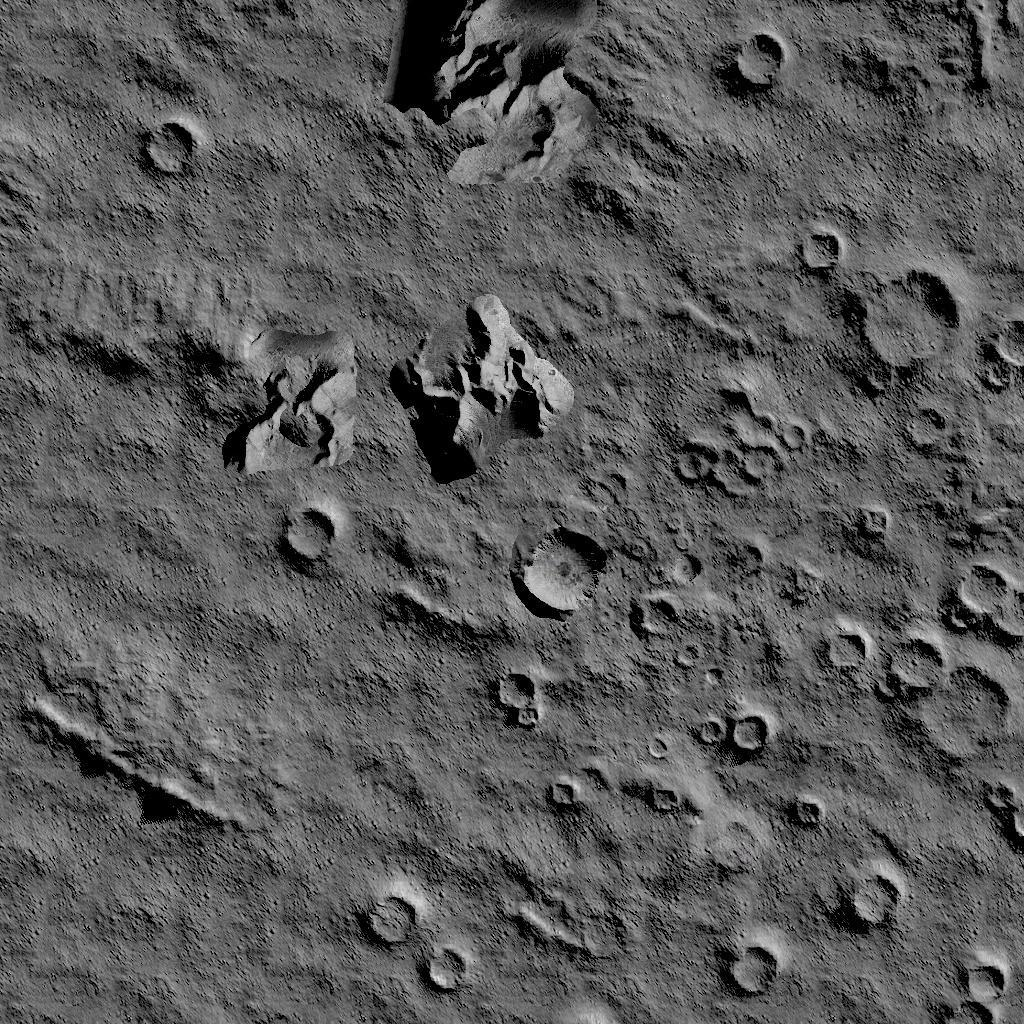Boulders: (18, 286, 360, 482), (387, 0, 673, 234), (11, 678, 251, 858), (380, 289, 580, 482), (358, 512, 500, 652), (0, 158, 41, 268), (226, 0, 300, 29)
Crater: (809, 556, 1024, 759), (855, 266, 1024, 452), (659, 368, 814, 502), (342, 882, 480, 994), (514, 520, 618, 638), (126, 98, 216, 192), (706, 20, 796, 102), (634, 550, 706, 640), (677, 700, 777, 764), (269, 498, 342, 580), (929, 950, 1009, 1024), (830, 868, 904, 943), (483, 662, 550, 735), (714, 934, 780, 1002), (983, 768, 1024, 865), (788, 224, 842, 280), (782, 788, 832, 836), (540, 996, 618, 1024), (638, 774, 682, 823), (849, 500, 897, 540), (542, 772, 578, 815), (997, 0, 1024, 50)
Plan surface: (4, 880, 316, 1024), (5, 498, 254, 654), (277, 662, 465, 848), (237, 64, 358, 266), (745, 130, 1017, 200)
